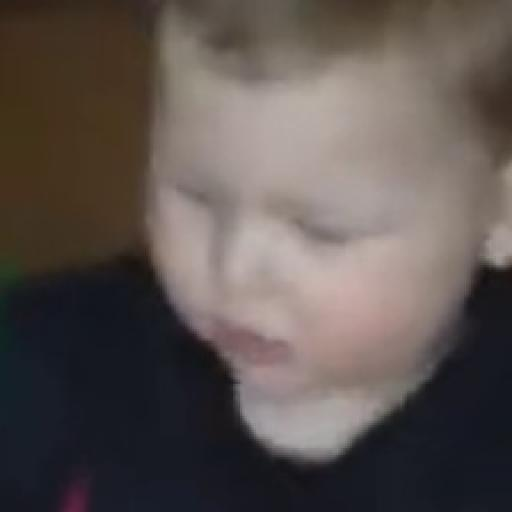Autism: (152, 20, 512, 425)
